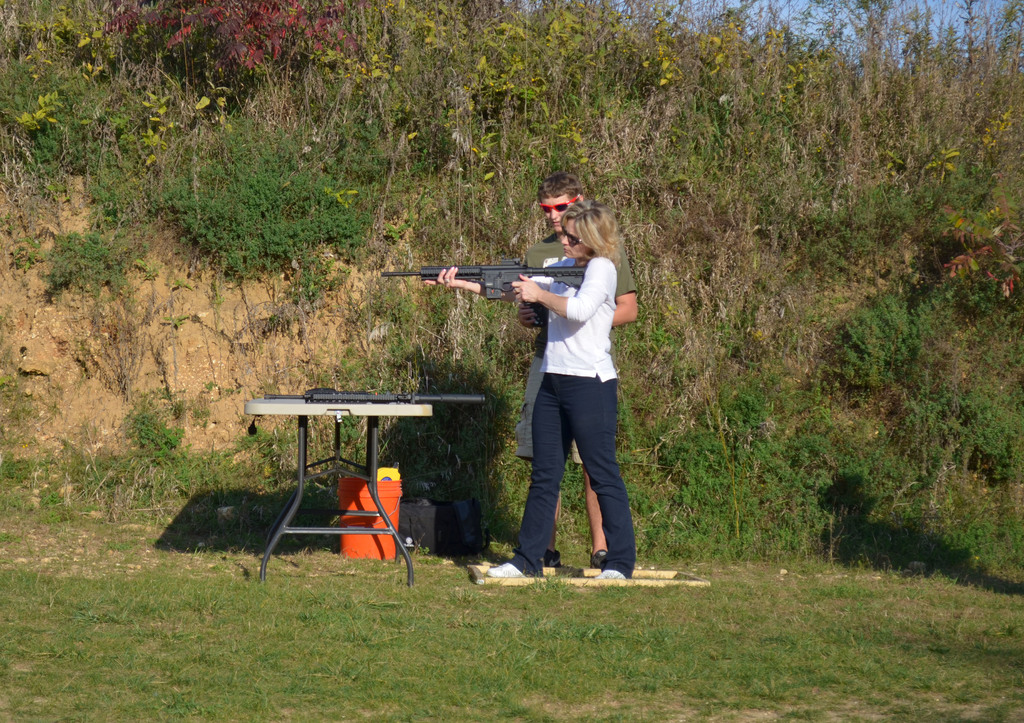Person: (424, 200, 637, 579), (516, 171, 638, 567)
